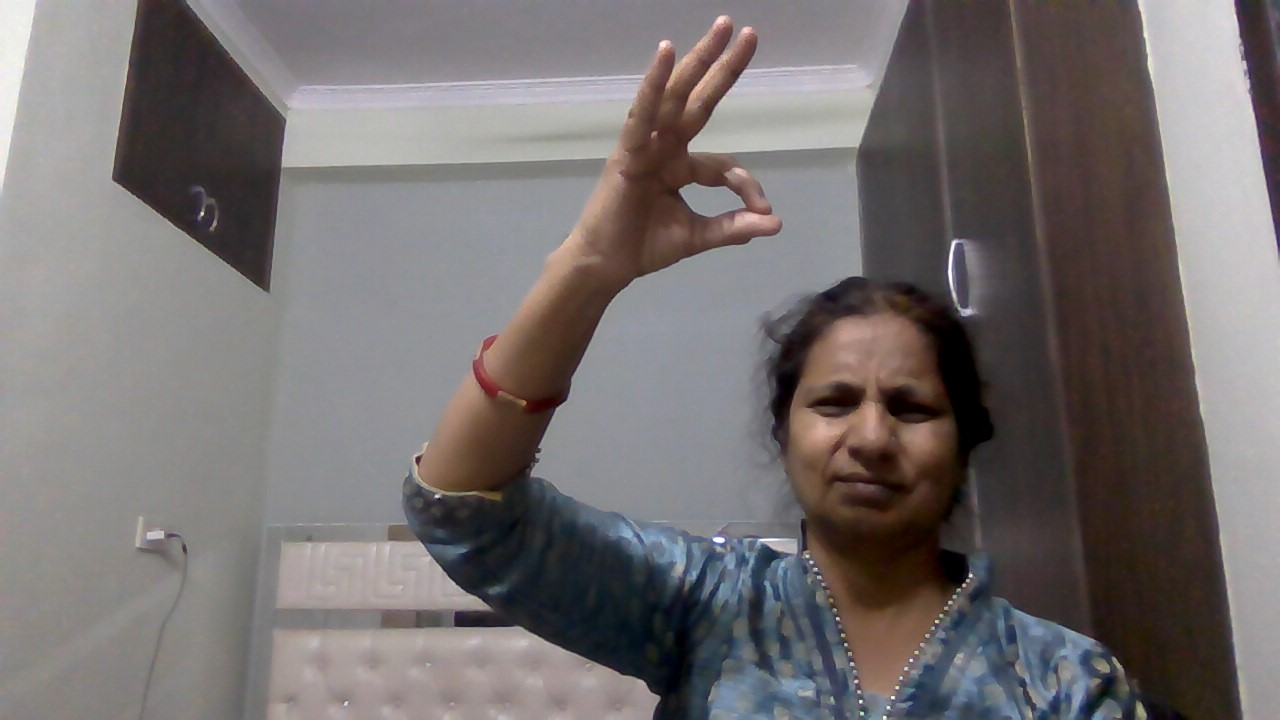Copy: (575, 9, 790, 297)
